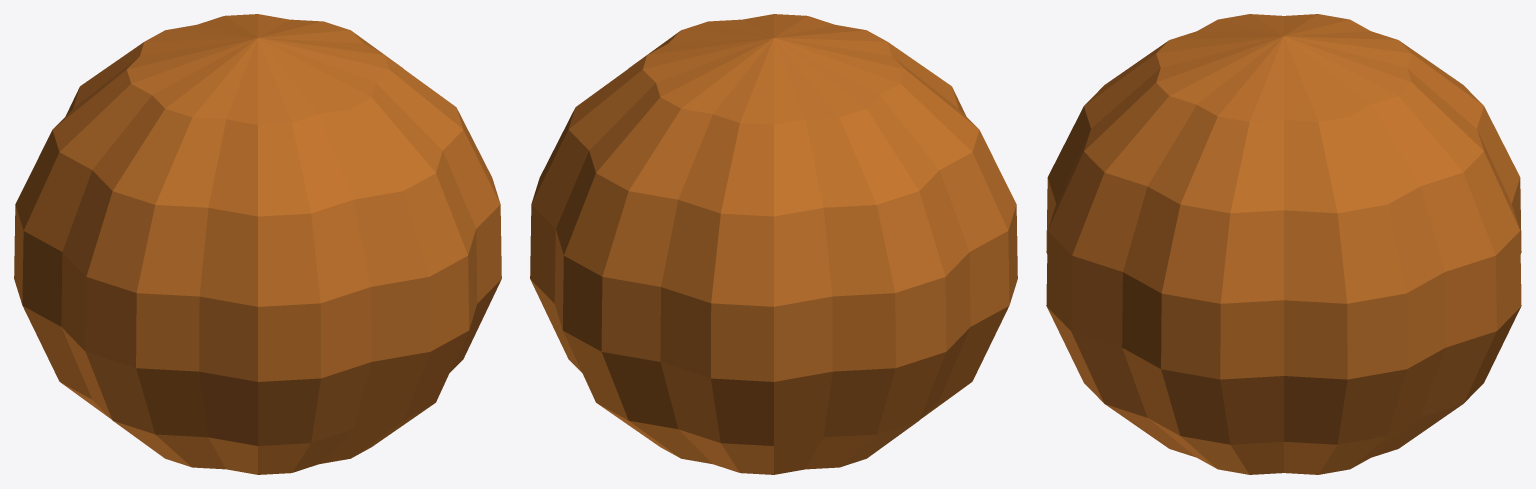
File: orange.glb
3 views of the same model, side by side, from view 1: azimuth 30°, elevation 25°; view 2: azimuth 150°, elevation 25°; view 3: azimuth 270°, elevation 25° (orthographic).
Parts seen in each view (by area): view 1: orange; view 2: orange; view 3: orange.
Part boxes in pixels (bbox=[...]): orange: bbox=[14, 14, 501, 474]; orange: bbox=[530, 14, 1017, 474]; orange: bbox=[1046, 14, 1521, 474].
Bounding box in the file's own units: 0.08 × 0.0774 × 0.08.
